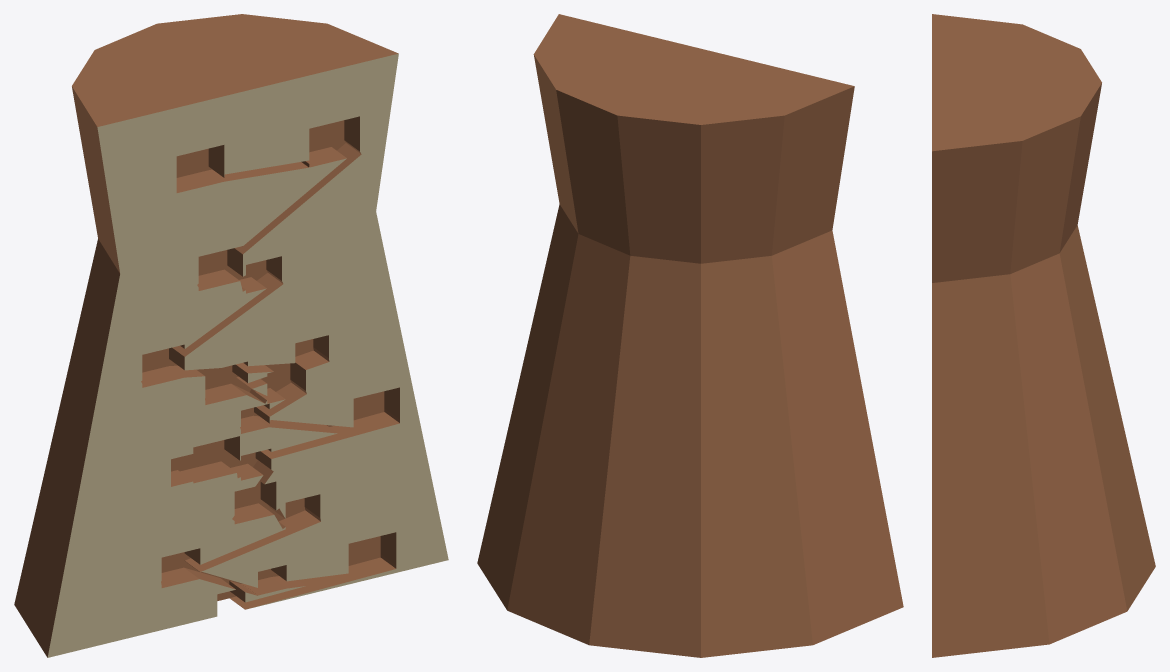
File: hazard_base.glb
The picture shows the model from 3 angles, left to right: view 1: azimuth 30°, elevation 25°; view 2: azimuth 150°, elevation 25°; view 3: azimuth 270°, elevation 25°; orthographic projection. The views are drawn at different scales.
Visible parts, largest first — view 1: baseggg_nuclear; view 2: baseggg_nuclear; view 3: baseggg_nuclear.
Part boxes in pixels (<box>): baseggg_nuclear: <box>14,14,448,657</box>; baseggg_nuclear: <box>477,14,903,657</box>; baseggg_nuclear: <box>932,14,1155,657</box>.
Size of the model in its own units: 2.95 by 3.65 by 1.53.
